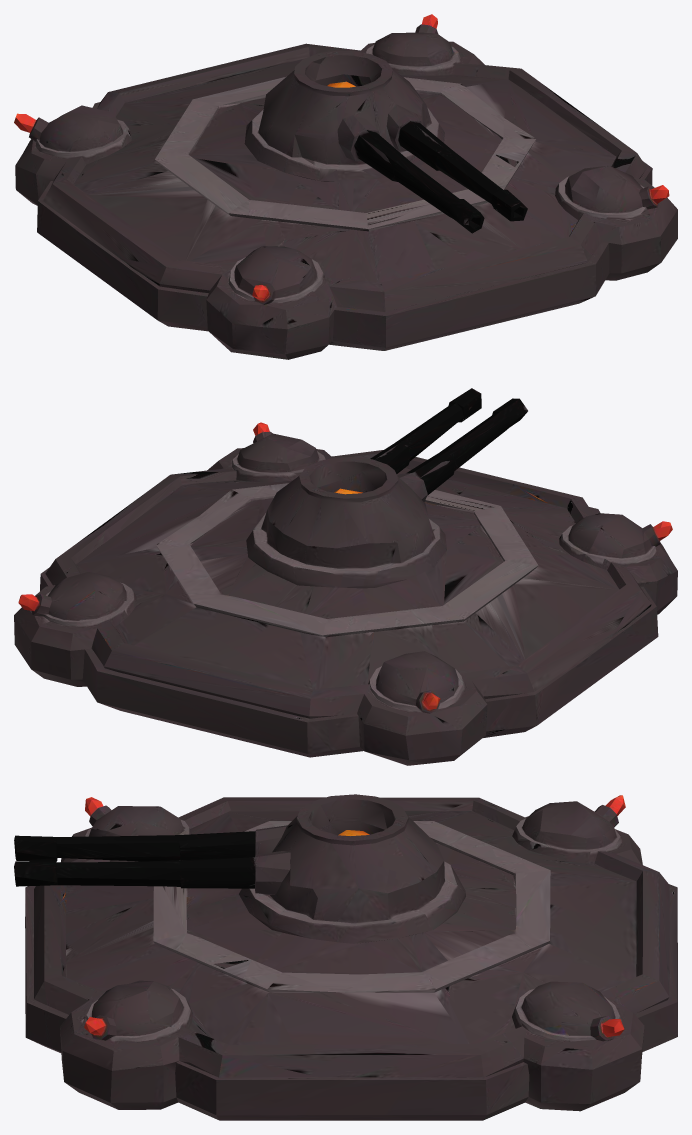
The model's file is boss4_cytadela_lite.glb.
The picture shows the model from 3 angles, top to bottom: view 1: azimuth 30°, elevation 25°; view 2: azimuth 150°, elevation 25°; view 3: azimuth 270°, elevation 25°; orthographic projection. The views are drawn at different scales.
Visible parts, largest first — view 1: Boss4; view 2: Boss4; view 3: Boss4.
Part boxes in pixels (x1,y1,x2,y2): Boss4: (14, 14, 677, 359); Boss4: (14, 388, 677, 765); Boss4: (14, 794, 677, 1120).
Size of the model in its own units: 5.8 by 1.94 by 5.99.
1 material, 1 textured.
